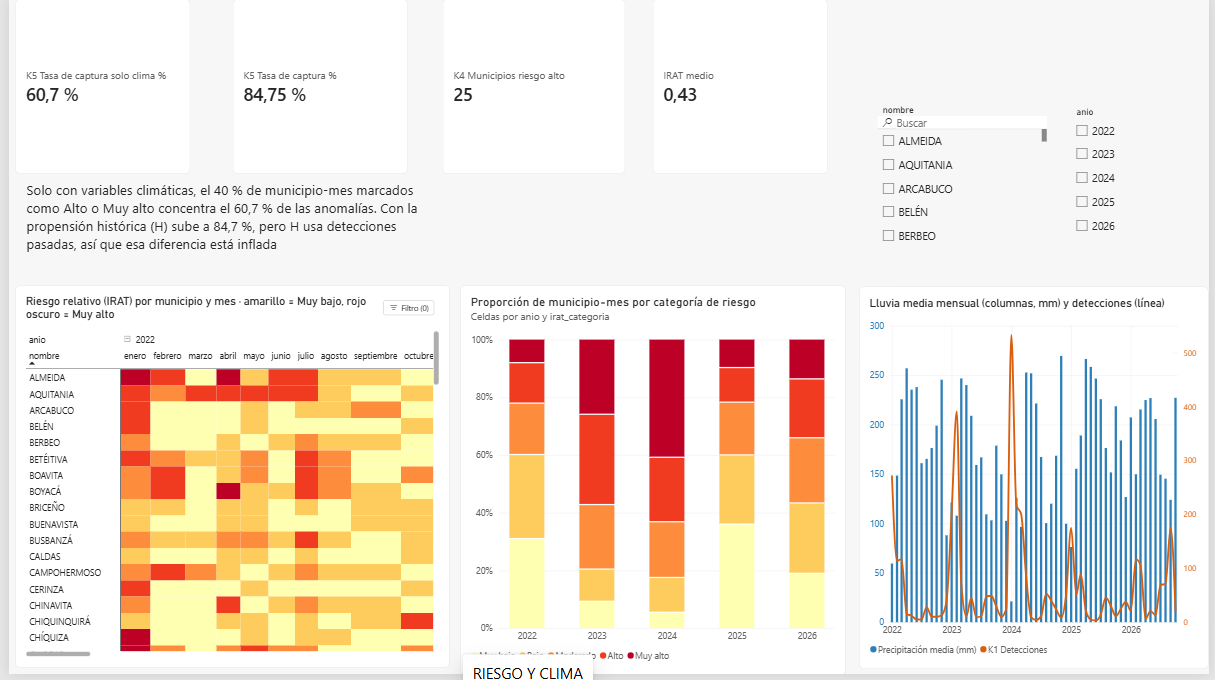

Layout of this report page (visuals, bound fields, positions):
{"tool":"powerbi","page":{"name":"RIESGO Y CLIMA","canvas":[1920,1080],"ordinal":2},"visuals":[{"type":"cardVisual","fields":{"Data":["_Medidas.K5 Tasa de captura solo clima %"]},"box":[10,0,280,280],"z":0},{"type":"cardVisual","fields":{"Data":["_Medidas.K5 Tasa de captura %"]},"box":[357.1,0,280,280],"z":1000},{"type":"cardVisual","fields":{"Data":["_Medidas.K4 Municipios riesgo alto"]},"box":[694.3,0,292,280],"z":2000},{"type":"cardVisual","fields":{"Data":["_Medidas.IRAT medio"]},"box":[1030,0,280,280],"z":3000},{"type":"textbox","box":[28.6,290,628.6,198.6],"z":4000},{"type":"pivotTable","title":"Riesgo relativo (IRAT) por municipio y mes · amarillo = Muy bajo, rojo oscuro = Muy alto","fields":{"Columns":["dim_mes.anio","dim_mes.nombre_mes"],"Rows":["dim_municipio.nombre"],"Values":["_Medidas.IRAT medio"]},"box":[9.5,457.1,695.2,611.9],"z":5000},{"type":"hundredPercentStackedColumnChart","title":"Proporción de municipio-mes por categoría de riesgo","fields":{"Category":["dim_mes.anio"],"Series":["fact_municipio_mes.irat_categoria"],"Y":["_Medidas.Celdas"]},"box":[721.4,457.1,616.7,623.8],"z":6000},{"type":"lineClusteredColumnComboChart","title":"Lluvia media mensual (columnas, mm) y detecciones (línea)","fields":{"Category":["dim_mes.fecha_mes"],"Y":["_Medidas.Precipitación media (mm)"],"Y2":["_Medidas.K1 Detecciones"]},"box":[1359.5,459.5,559.5,611.9],"z":6001},{"type":"slicer","fields":{"Values":["dim_municipio.nombre"]},"box":[1390,168,270,222],"z":6002},{"type":"slicer","fields":{"Values":["dim_mes.anio"]},"box":[1700,172,202,236],"z":6003}]}

Visuals, with their boxes in screenshot pixels (x1, y1, x2, y2), scaled from the page's 1920x1080 canvas onto the 1215x680 screenshot:
cardVisual - _Medidas.K5 Tasa de captura solo clima %: [x1=6, y1=0, x2=184, y2=176]
cardVisual - _Medidas.K5 Tasa de captura %: [x1=226, y1=0, x2=403, y2=176]
cardVisual - _Medidas.K4 Municipios riesgo alto: [x1=439, y1=0, x2=624, y2=176]
cardVisual - _Medidas.IRAT medio: [x1=652, y1=0, x2=829, y2=176]
textbox: [x1=18, y1=183, x2=416, y2=308]
"Riesgo relativo (IRAT) por municipio y mes · amarillo = Muy bajo, rojo oscuro = Muy alto" pivotTable: [x1=6, y1=288, x2=446, y2=673]
"Proporción de municipio-mes por categoría de riesgo" hundredPercentStackedColumnChart: [x1=457, y1=288, x2=847, y2=679]
"Lluvia media mensual (columnas, mm) y detecciones (línea)" lineClusteredColumnComboChart: [x1=860, y1=289, x2=1214, y2=675]
slicer - dim_municipio.nombre: [x1=880, y1=106, x2=1050, y2=246]
slicer - dim_mes.anio: [x1=1076, y1=108, x2=1204, y2=257]
